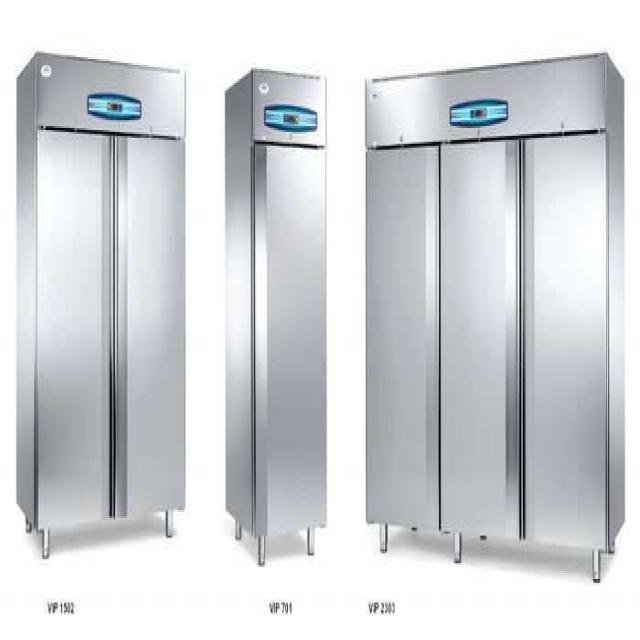refrigerator: (363, 48, 608, 556), (32, 51, 186, 537), (252, 69, 327, 538)
